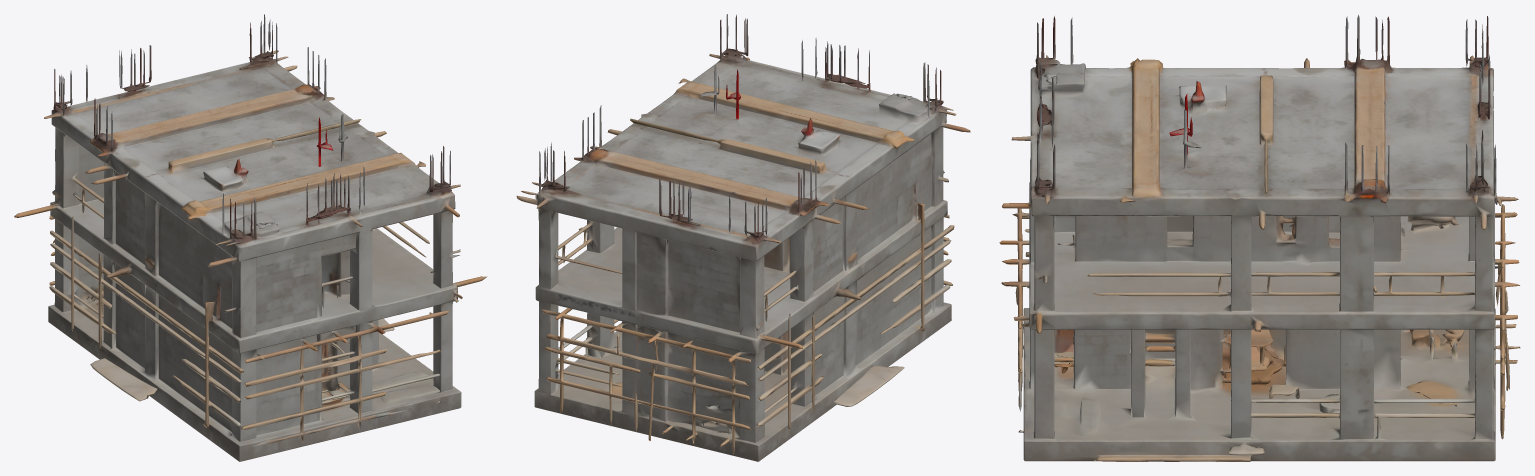
Rendered from unfinished.glb.
3 renders of one model, left to right at view 1: azimuth 30°, elevation 25°; view 2: azimuth 150°, elevation 25°; view 3: azimuth 270°, elevation 25°, orthographic. The views are drawn at different scales.
Parts seen in each view (by area): view 1: tripo_node_de95a03e-26df-4111-b1a2-511878373d05; view 2: tripo_node_de95a03e-26df-4111-b1a2-511878373d05; view 3: tripo_node_de95a03e-26df-4111-b1a2-511878373d05.
Boxes of the visible parts, x1,y1,x2,y2 form: tripo_node_de95a03e-26df-4111-b1a2-511878373d05: (14, 14, 487, 461); tripo_node_de95a03e-26df-4111-b1a2-511878373d05: (516, 14, 970, 461); tripo_node_de95a03e-26df-4111-b1a2-511878373d05: (999, 14, 1520, 461).
Size of the model in its own units: 7 by 6 by 8.76.
1 material, 1 textured.
